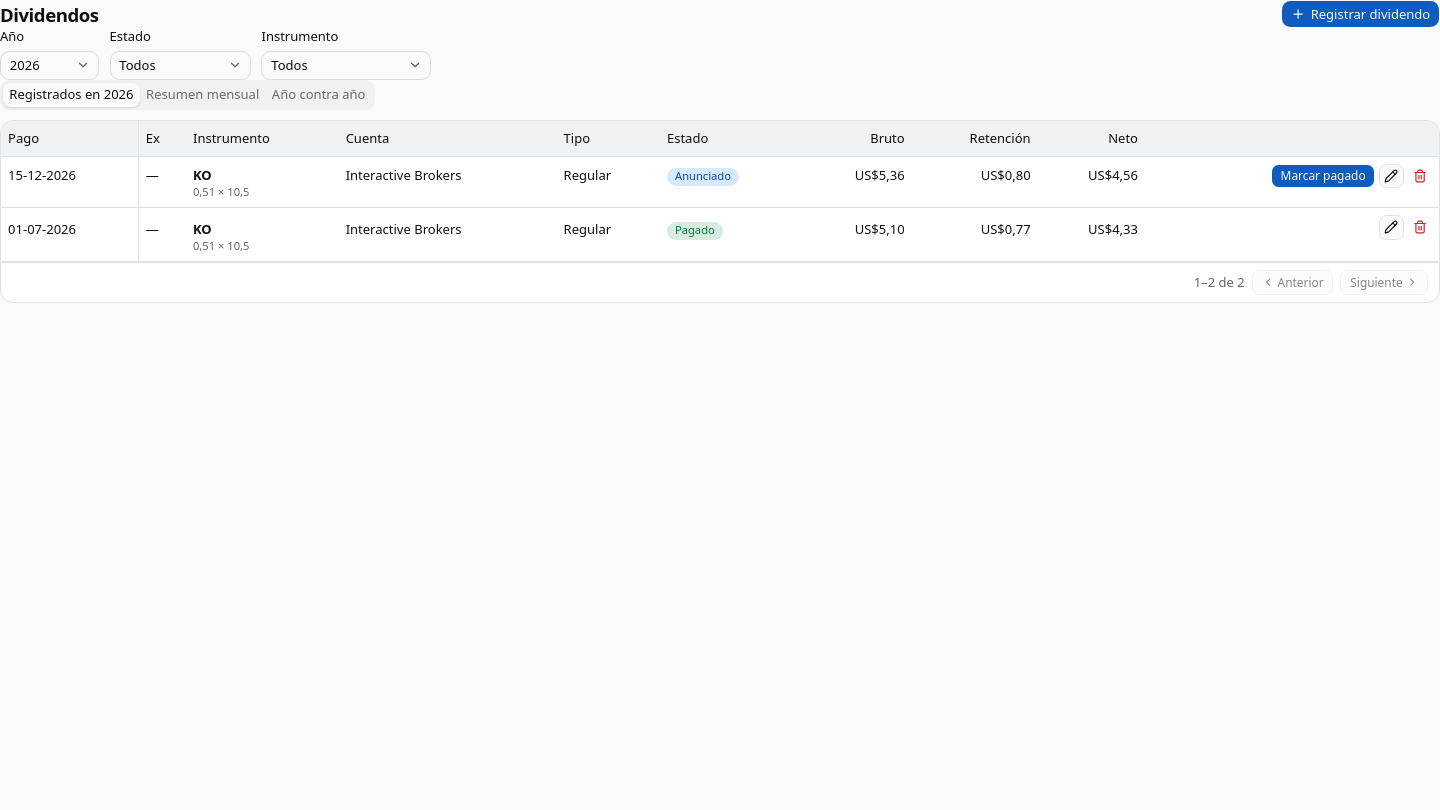
DividendsScreen › "Marcar pagado" muestra INVALID_STATE si ya estaba pagado
What coordinates should you click on to do the following:
click the button "Marcar pagado"
I would click on:
 (1323, 176)
Its box is x1=1271 y1=164 x2=1375 y2=188.
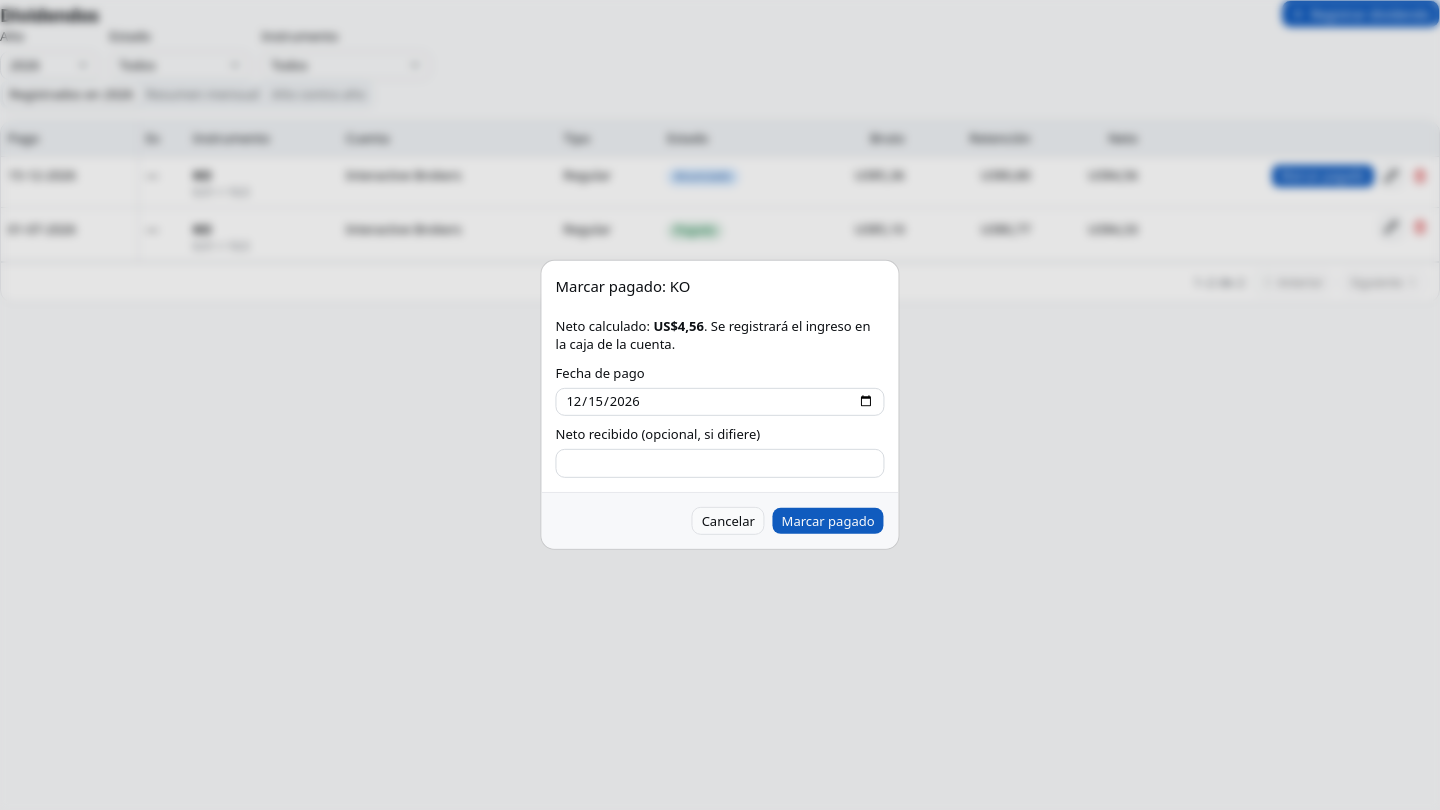
What coordinates should you click on to do the following:
click the button "Marcar pagado"
I would click on:
 (828, 521)
Its box is x1=772 y1=507 x2=884 y2=535.
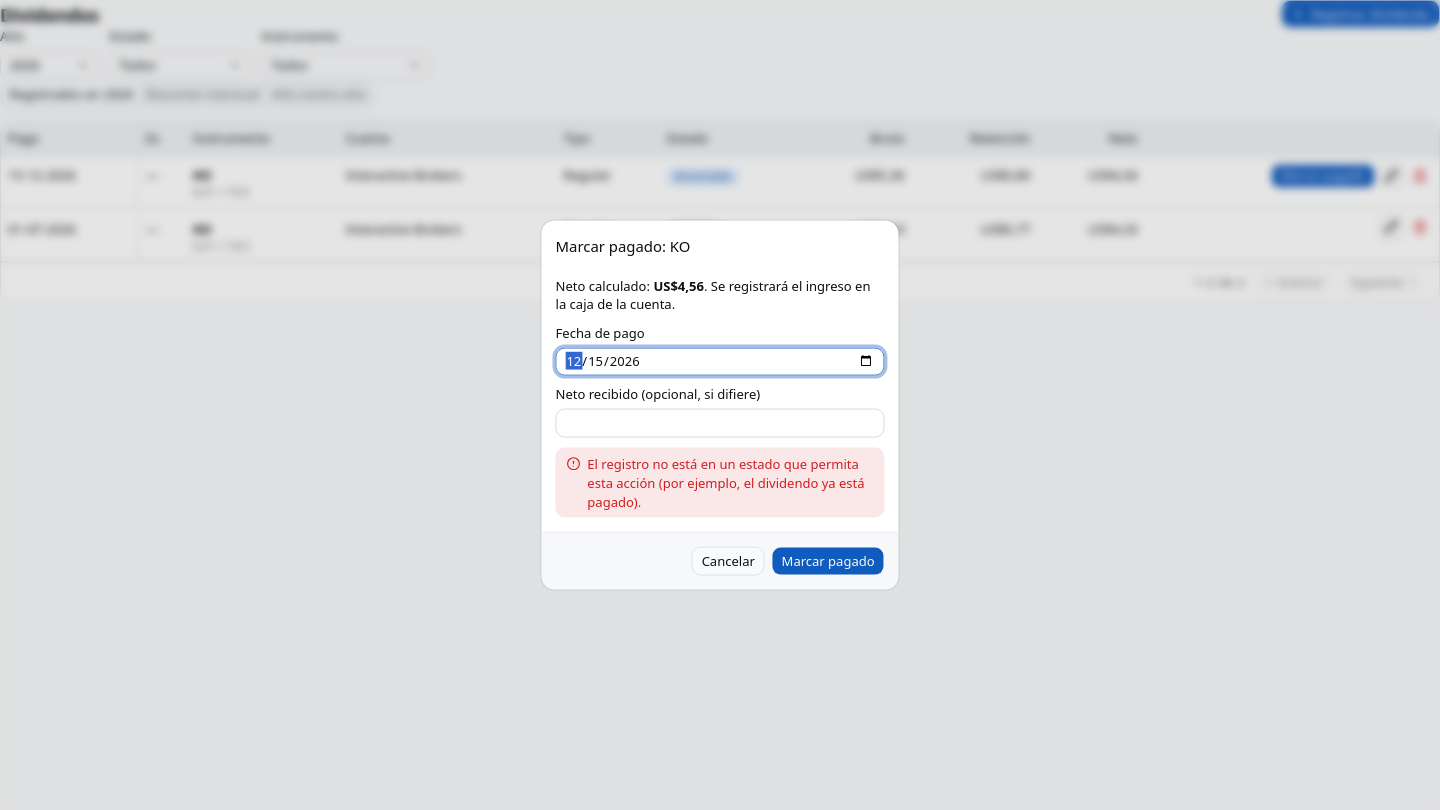
Expected: the message shows "estado", x1=587 y1=455 x2=865 y2=510
